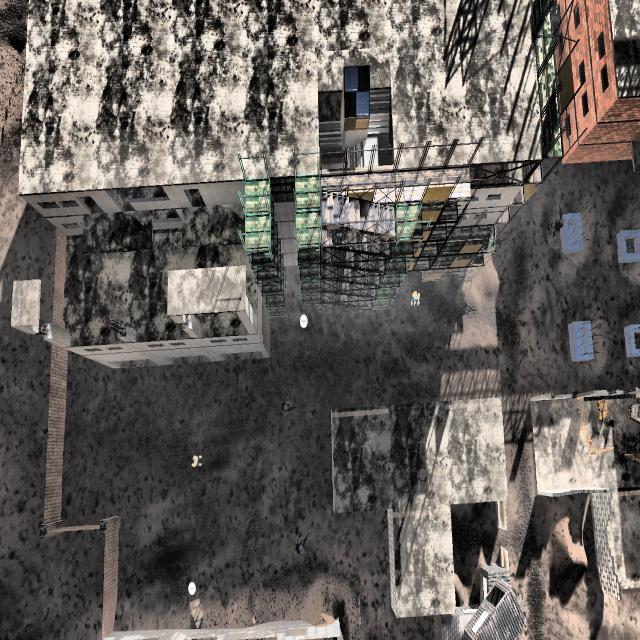bad: (278, 390, 296, 425), (294, 529, 310, 566), (552, 203, 566, 237)
good: (407, 285, 426, 311), (188, 451, 204, 475)
